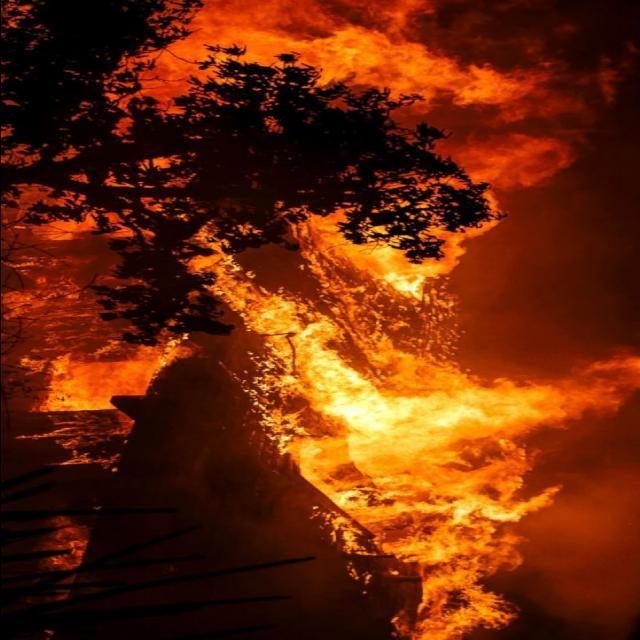Fire: (228, 302, 621, 640), (107, 10, 577, 292)
